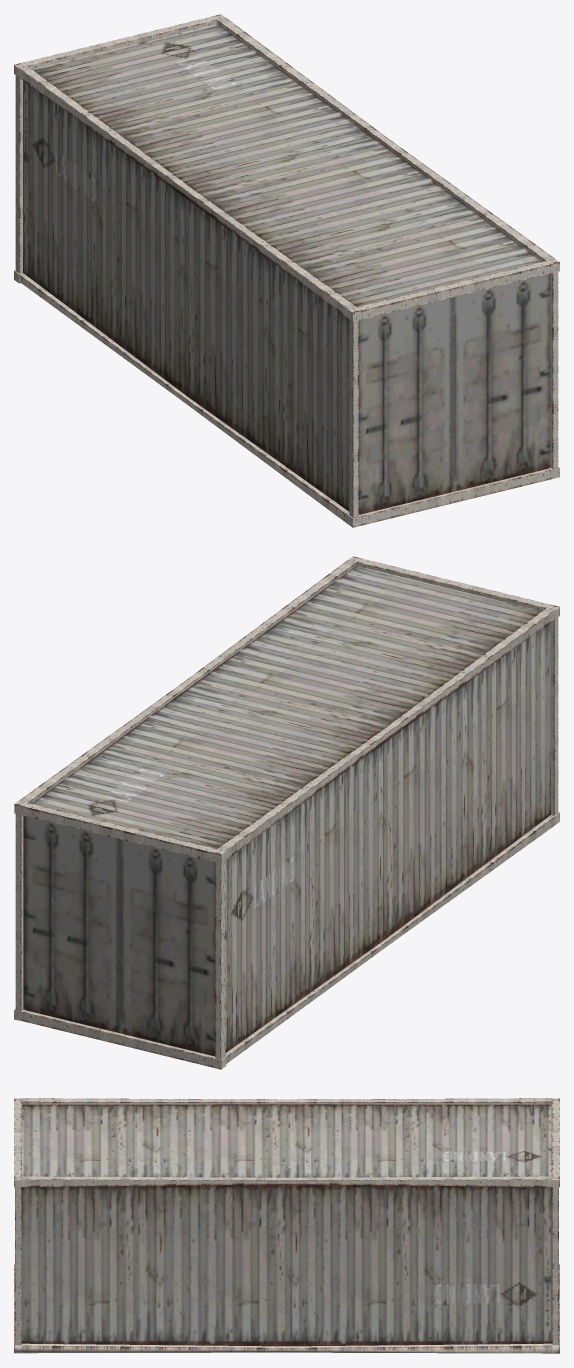
Rendered from containerwhitea_mobile004_containers_mobile_0_lev1.glb.
3 renders of one model, top to bottom at view 1: azimuth 30°, elevation 25°; view 2: azimuth 150°, elevation 25°; view 3: azimuth 270°, elevation 25°, orthographic. The views are drawn at different scales.
Visible parts, largest first — view 1: containerwhitea_mobile004_containers_mobile_0_lev1; view 2: containerwhitea_mobile004_containers_mobile_0_lev1; view 3: containerwhitea_mobile004_containers_mobile_0_lev1.
Part boxes in pixels (x1=…): containerwhitea_mobile004_containers_mobile_0_lev1: x1=14, y1=14, x2=559, y2=527; containerwhitea_mobile004_containers_mobile_0_lev1: x1=14, y1=556, x2=559, y2=1069; containerwhitea_mobile004_containers_mobile_0_lev1: x1=14, y1=1098, x2=559, y2=1353.
Bounding box in the file's own units: 1.9 × 1.89 × 5.37.
1 material, 1 textured.
